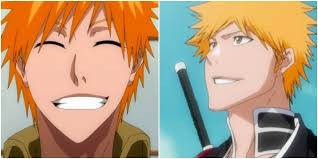Ichigo: (6, 1, 145, 143), (203, 5, 303, 114)
